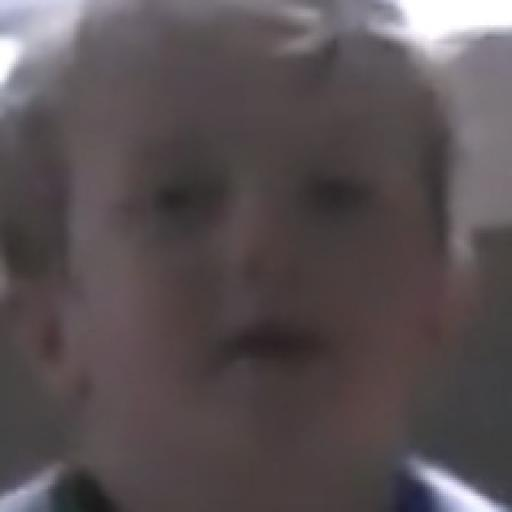Autism: (34, 22, 504, 465)
